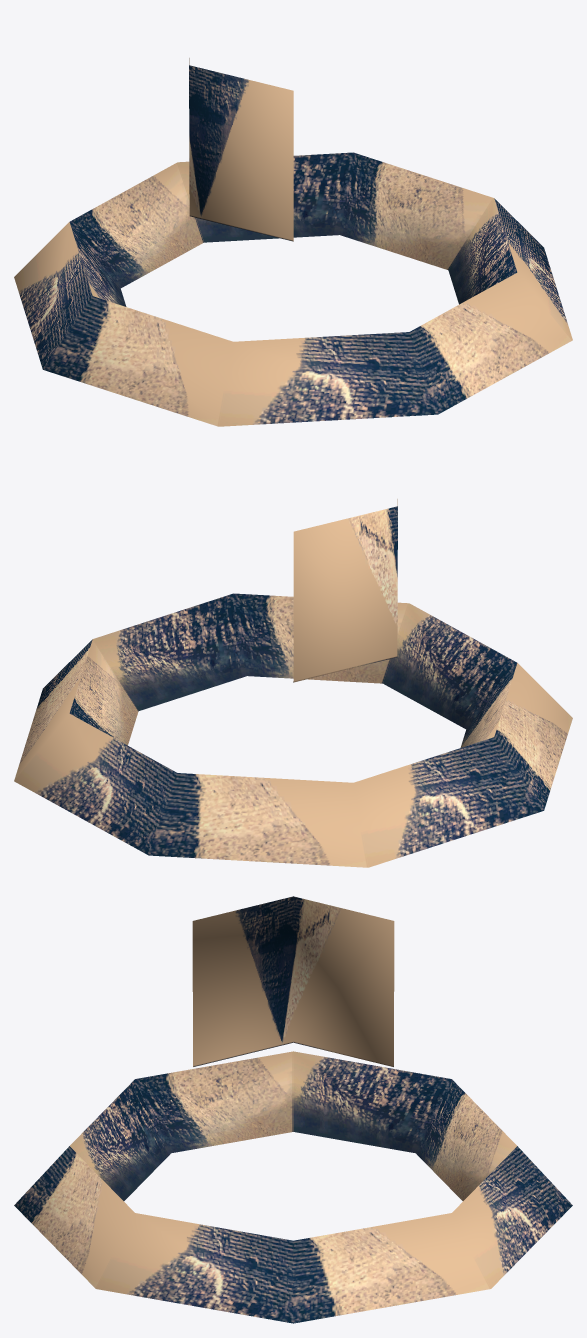
The picture shows the model from 3 angles, top to bottom: view 1: azimuth 30°, elevation 25°; view 2: azimuth 150°, elevation 25°; view 3: azimuth 270°, elevation 25°; orthographic projection. The views are drawn at different scales.
Parts seen in each view (by area): view 1: Mesh_0184_rip, Mesh_0188_rip; view 2: Mesh_0184_rip, Mesh_0188_rip; view 3: Mesh_0184_rip, Mesh_0188_rip.
Part boxes in pixels (box(x1,y1,x2,y2)): Mesh_0184_rip: box(14, 152, 572, 426); Mesh_0188_rip: box(189, 58, 293, 241); Mesh_0184_rip: box(14, 593, 572, 867); Mesh_0188_rip: box(293, 499, 397, 682); Mesh_0184_rip: box(14, 1051, 572, 1323); Mesh_0188_rip: box(192, 896, 394, 1066).
Size of the model in its own units: 16.49 by 16.49 by 8.46.
